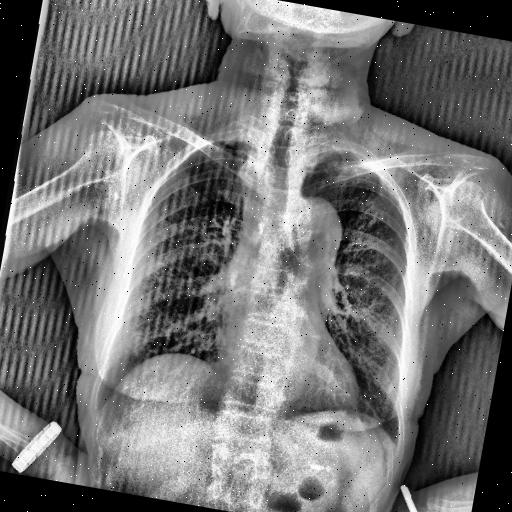0- Aortic enlargement: (192, 178, 360, 370), (218, 172, 356, 316)
13- Pulmonary fibrosis: (334, 155, 406, 248)
2- Calcification: (374, 374, 400, 404), (380, 376, 400, 402)
